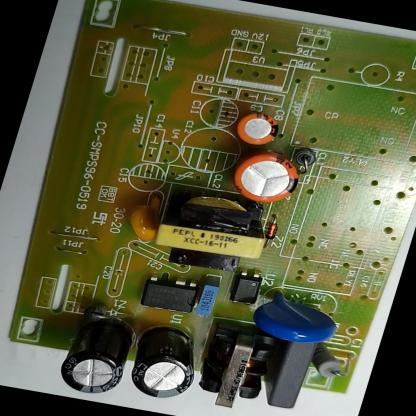Cap1: (226, 145, 307, 208)
Cap2: (231, 108, 285, 150)
Cap3: (122, 322, 207, 404)
Cap4: (54, 309, 142, 398)
MOSFET: (138, 273, 202, 316)
Mov: (249, 288, 346, 349)
Resistor: (306, 344, 349, 381)
Transformer: (144, 188, 274, 279), (192, 320, 284, 413)
